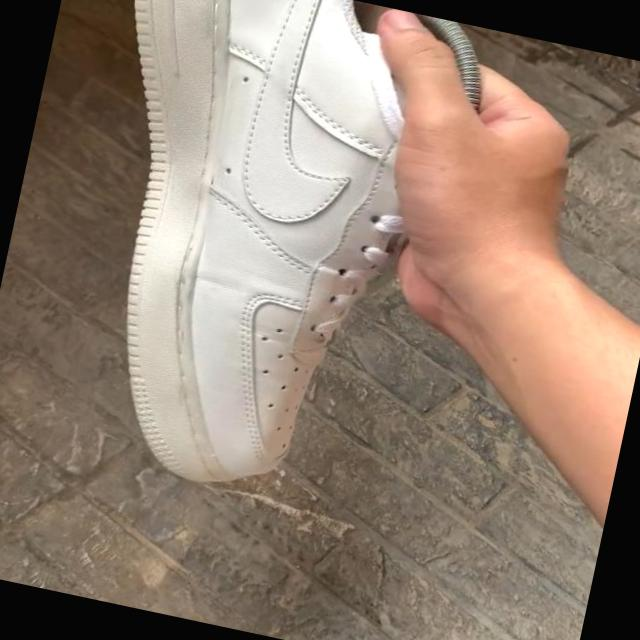nike_fake_airforce: (32, 0, 489, 524)
